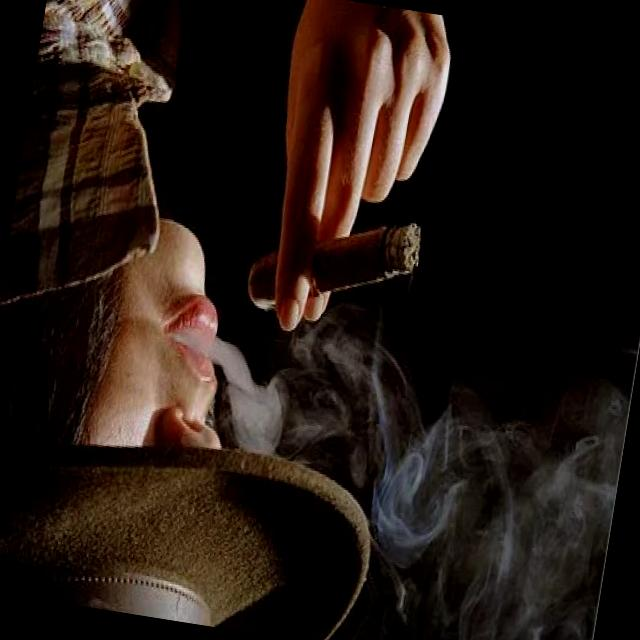cigarette: (241, 203, 427, 340)
